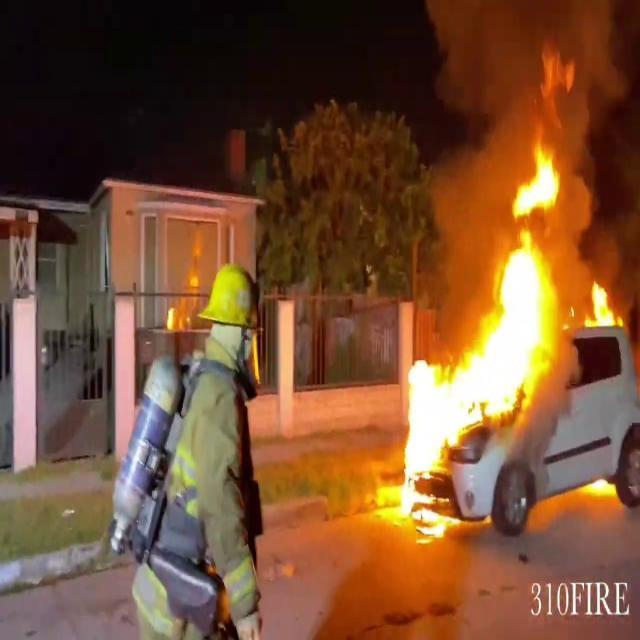Fire: (382, 134, 596, 522), (583, 276, 623, 336)
